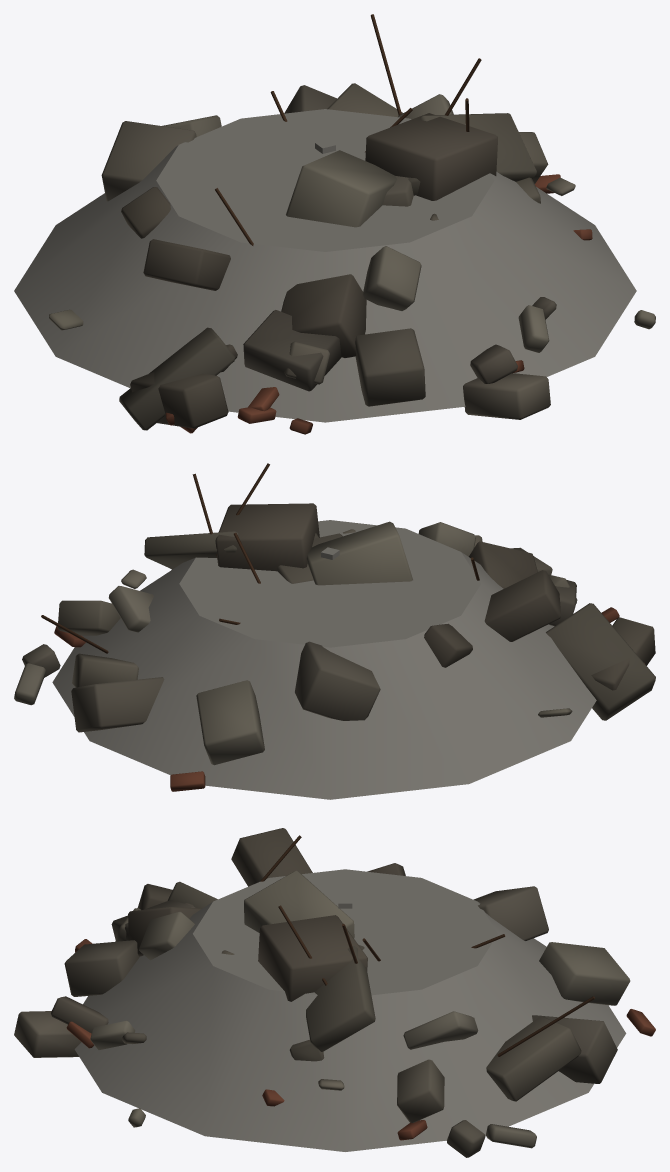
File: escombros.glb
3 renders of one model, top to bottom at view 1: azimuth 30°, elevation 25°; view 2: azimuth 150°, elevation 25°; view 3: azimuth 270°, elevation 25°, orthographic. The views are drawn at different scales.
Parts seen in each view (by area): view 1: escombros-colconvexa, escombros; view 2: escombros-colconvexa, escombros; view 3: escombros-colconvexa, escombros.
Boxes of the visible parts, x1,y1,x2,y2 form: escombros-colconvexa: (14, 109, 636, 422); escombros: (49, 14, 655, 434); escombros-colconvexa: (52, 520, 596, 799); escombros: (14, 463, 655, 791); escombros-colconvexa: (74, 869, 626, 1151); escombros: (14, 828, 655, 1157).
Bounding box in the file's own units: 4.17 × 1.59 × 4.62.
